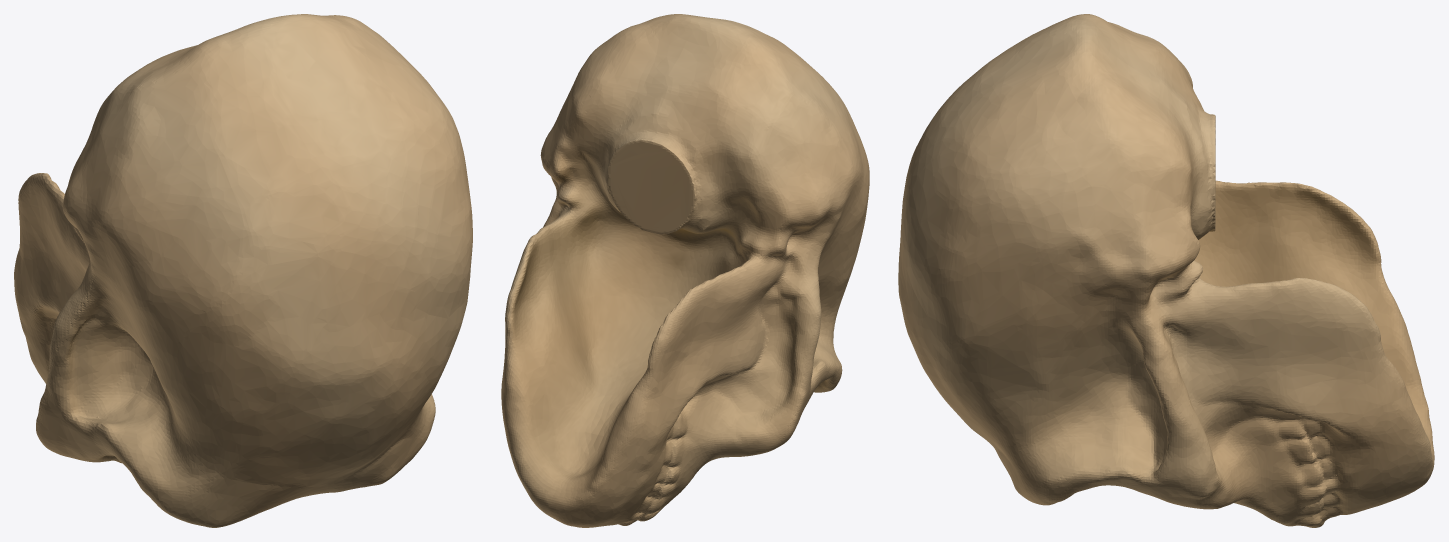
Rendered from ergaster.glb.
3 views of the same model, side by side, from view 1: azimuth 30°, elevation 25°; view 2: azimuth 150°, elevation 25°; view 3: azimuth 270°, elevation 25° (orthographic). The views are drawn at different scales.
Size of the model in its own units: 30.24 by 43.72 by 43.31.
